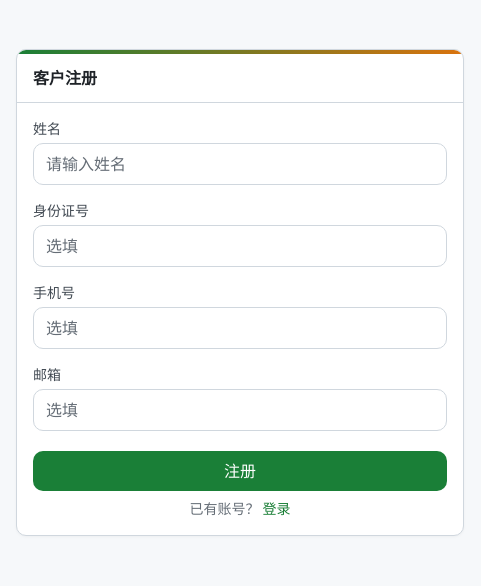
Scenario: RegisterPage › 注册失败时显示错误
In the field labelled "姓名": x=240, y=164 [33,142,447,184], type "李四"
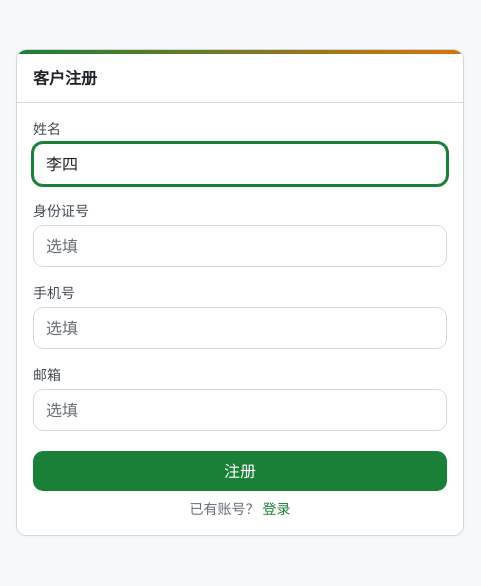
Click the button "注册": x=240, y=470 [33,450,447,490]
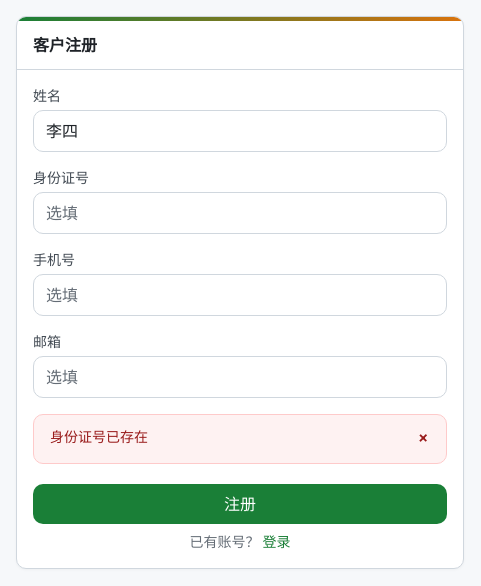
Now the message shows "身份证号已存在", box [50,428,148,446]
